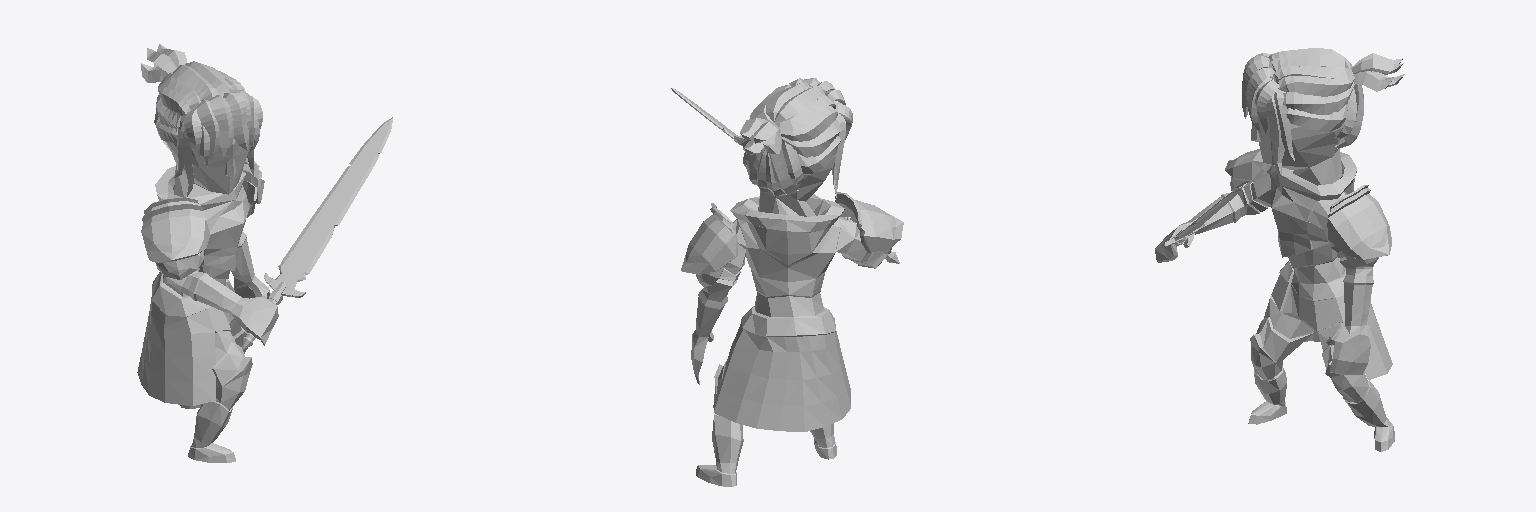
3 views of the same model, side by side, from view 1: azimuth 30°, elevation 25°; view 2: azimuth 150°, elevation 25°; view 3: azimuth 270°, elevation 25° (orthographic).
Parts seen in each view (by area): view 1: Warrior.002__ncl1_29.005, Face__ncl1_29.002, Warrior_Sword_Cylinder.001, Shoulder.R__ncl1_29.001, Shoulder.L__ncl1_29.000; view 2: Warrior.002__ncl1_29.005, Face__ncl1_29.002, Shoulder.L__ncl1_29.000, Shoulder.R__ncl1_29.001, Warrior_Sword_Cylinder.001; view 3: Warrior.002__ncl1_29.005, Face__ncl1_29.002, Shoulder.L__ncl1_29.000, Shoulder.R__ncl1_29.001, Warrior_Sword_Cylinder.001.
Part boxes in pixels (x1,y1,x2,y2): Warrior.002__ncl1_29.005: (137, 116, 278, 462); Face__ncl1_29.002: (141, 44, 262, 196); Warrior_Sword_Cylinder.001: (242, 117, 392, 349); Shoulder.R__ncl1_29.001: (141, 197, 209, 279); Shoulder.L__ncl1_29.000: (243, 158, 264, 217); Warrior.002__ncl1_29.005: (691, 120, 887, 486); Face__ncl1_29.002: (734, 78, 852, 197); Shoulder.L__ncl1_29.000: (681, 203, 737, 286); Shoulder.R__ncl1_29.001: (835, 192, 903, 253); Warrior_Sword_Cylinder.001: (671, 88, 899, 263); Warrior.002__ncl1_29.005: (1155, 111, 1394, 451); Face__ncl1_29.002: (1242, 48, 1404, 174); Shoulder.L__ncl1_29.000: (1327, 185, 1391, 266); Shoulder.R__ncl1_29.001: (1225, 149, 1271, 191); Warrior_Sword_Cylinder.001: (1164, 188, 1240, 246).
Bounding box in the file's own units: 1.87 × 2.82 × 1.73.